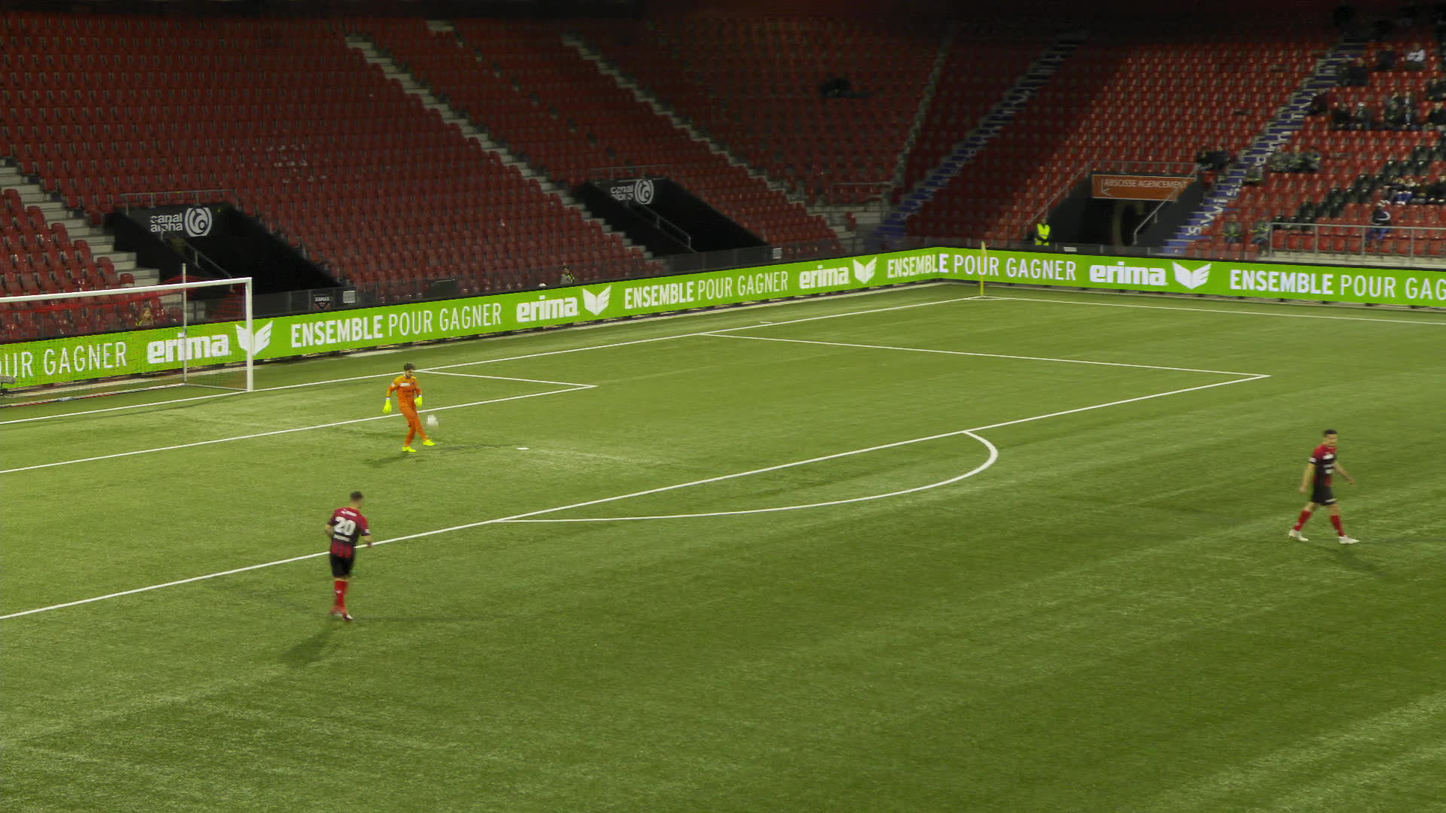ball: (427, 416, 437, 427)
player: (1284, 428, 1354, 544), (325, 493, 381, 621), (382, 361, 433, 451)
